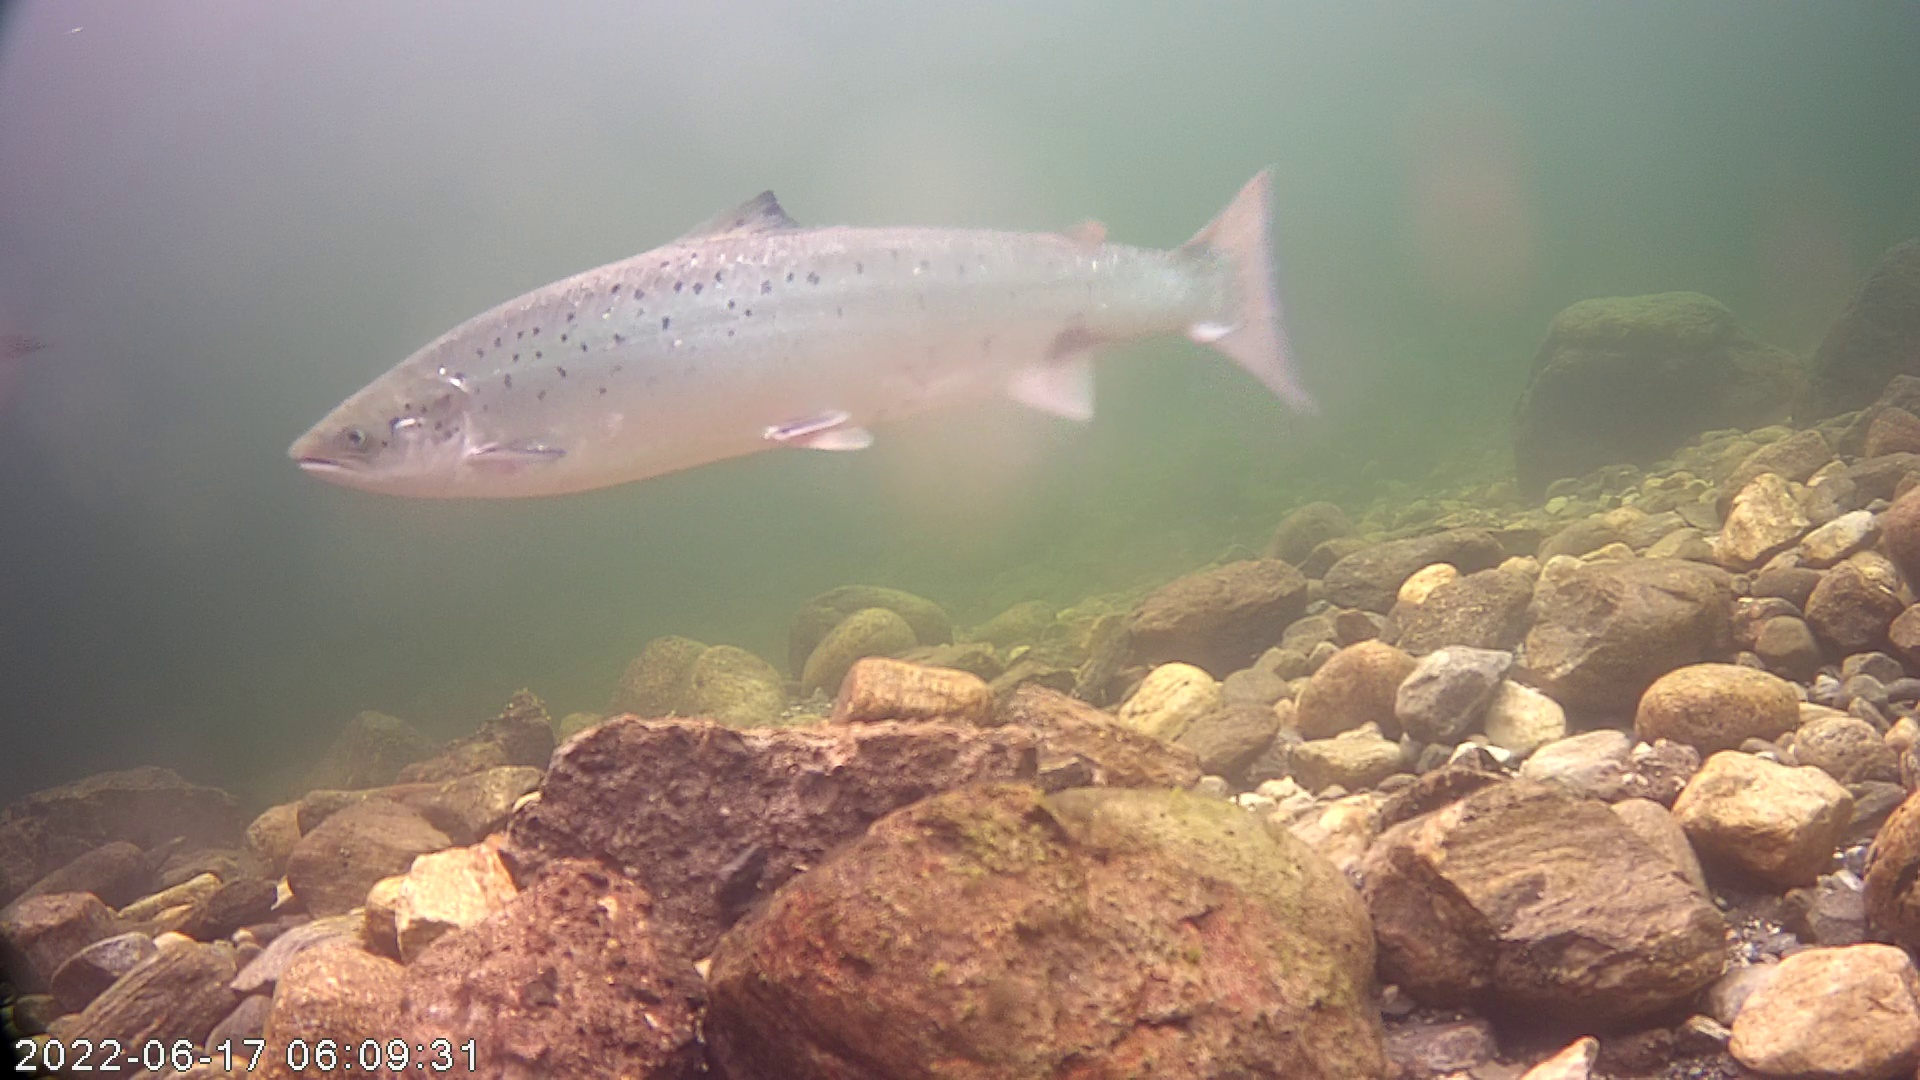salmon: (289, 161, 1337, 506)
